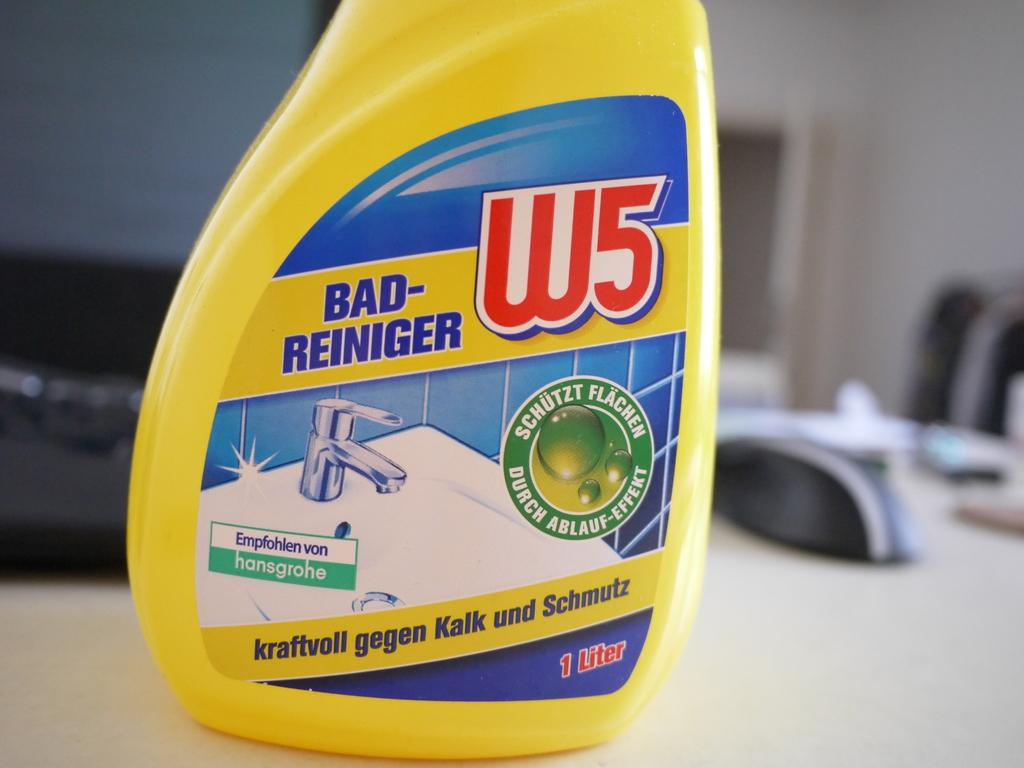Computer-mouse: (716, 433, 925, 561)
